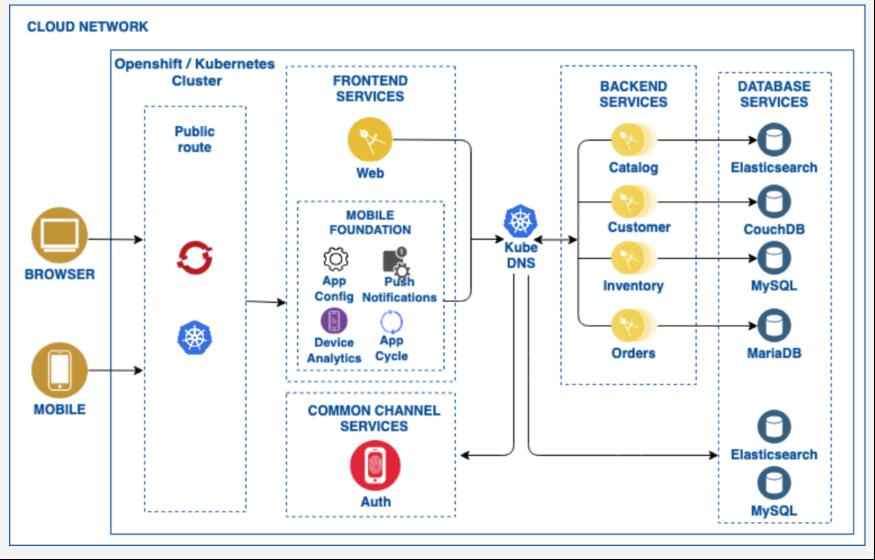Auth: (351, 441, 397, 487)
Backend: (349, 117, 393, 163), (610, 308, 647, 346), (608, 121, 648, 156), (612, 182, 648, 218), (609, 242, 647, 275)
Database: (755, 467, 792, 499), (758, 408, 790, 442), (758, 307, 789, 341), (761, 123, 790, 157), (762, 240, 788, 274), (762, 186, 788, 215)
Networking: (171, 315, 218, 365), (172, 235, 218, 282), (504, 202, 540, 241)
User: (28, 206, 91, 263), (33, 345, 82, 392)
